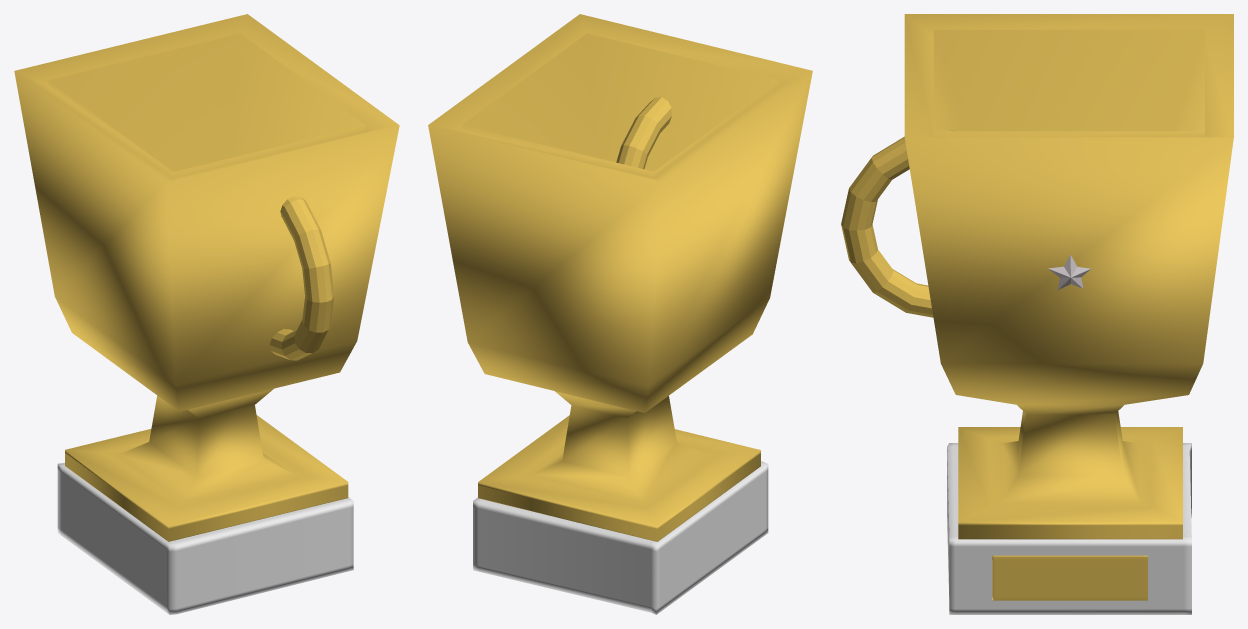
The model's file is 2023SEP15-ShellHacks-Trophy.glb.
3 renders of one model, left to right at view 1: azimuth 30°, elevation 25°; view 2: azimuth 150°, elevation 25°; view 3: azimuth 270°, elevation 25°, orthographic. The views are drawn at different scales.
Visible parts, largest first — view 1: Cube, Cube.001; view 2: Cube, Cube.001; view 3: Cube, Cube.001, Cube.002, Star.
Part boxes in pixels (<box>): Cube: <box>14,14,399,541</box>; Cube.001: <box>57,463,353,614</box>; Cube: <box>428,14,812,541</box>; Cube.001: <box>473,461,768,614</box>; Cube: <box>841,14,1233,539</box>; Cube.001: <box>947,443,1191,614</box>; Cube.002: <box>992,555,1147,600</box>; Star: <box>1048,255,1090,289</box>.
Bounding box in the file's own units: 2.6 × 4.83 × 3.5.
